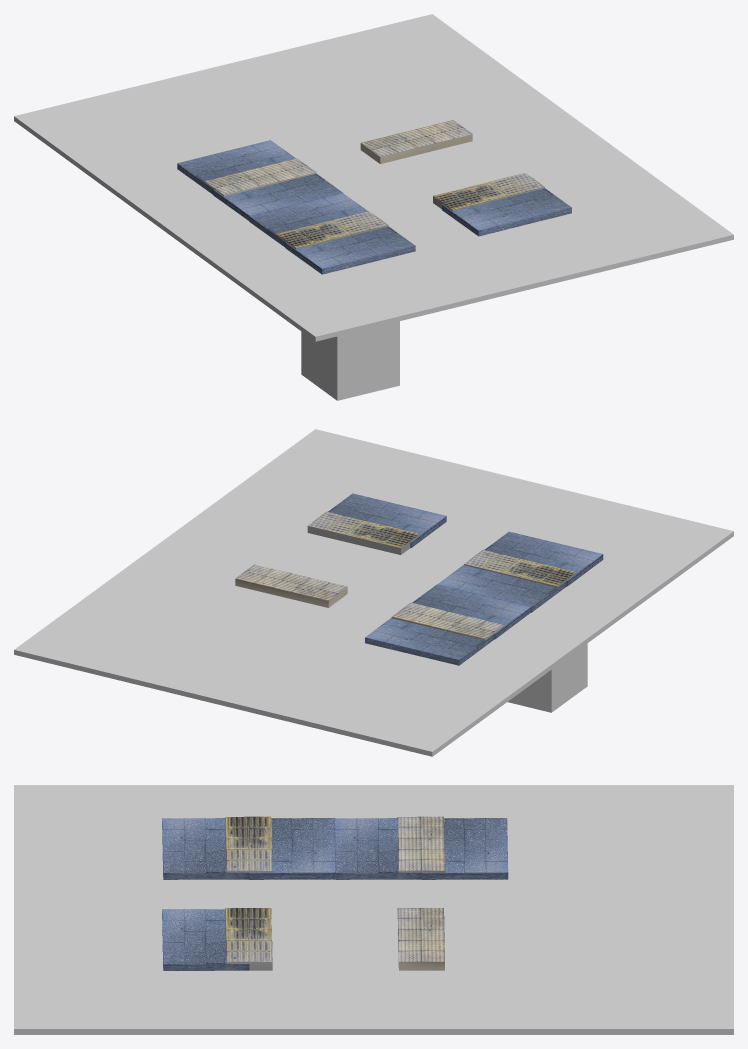
Rendered from nz assets.fbx.
3 views of the same model, one above another, from view 1: azimuth 30°, elevation 25°; view 2: azimuth 150°, elevation 25°; view 3: azimuth 270°, elevation 25° (orthographic). The views are drawn at different scales.
Parts seen in each view (by area): view 1: Cube.005, Cube, Cube.001, Cube.014, Cube.003, Cube.006, Cube.002, Cube.004, Cube.013, Cube.007, Cube.008; view 2: Cube.005, Cube.004, Cube.002, Cube.006, Cube.001, Cube.003, Cube.014, Cube, Cube.013, Cube.008, Cube.007; view 3: Cube.005, Cube.001, Cube.014, Cube.003, Cube.002, Cube.004, Cube.006, Cube.013, Cube.007, Cube.008.
Part boxes in pixels (x1,y1,x2,y2): Cube.005: (14, 14, 733, 341); Cube: (301, 321, 399, 400); Cube.001: (285, 226, 415, 274); Cube.014: (442, 188, 571, 236); Cube.003: (213, 173, 342, 220); Cube.006: (360, 120, 472, 163); Cube.002: (249, 193, 367, 247); Cube.004: (177, 140, 295, 194); Cube.013: (433, 173, 544, 211); Cube.007: (276, 211, 388, 249); Cube.008: (204, 158, 316, 196); Cube.005: (14, 429, 733, 756); Cube.004: (365, 618, 494, 665); Cube.002: (437, 565, 566, 612); Cube.006: (235, 564, 347, 607); Cube.001: (484, 531, 603, 586); Cube.003: (412, 584, 530, 639); Cube.014: (328, 493, 446, 547); Cube: (508, 643, 587, 712); Cube.013: (307, 511, 419, 554); Cube.008: (391, 602, 504, 640); Cube.007: (464, 549, 576, 587); Cube.005: (14, 785, 733, 1034); Cube.001: (162, 818, 249, 879); Cube.014: (162, 909, 249, 970); Cube.003: (334, 818, 421, 879); Cube.002: (249, 818, 335, 879); Cube.004: (422, 818, 508, 879); Cube.006: (397, 908, 444, 970); Cube.013: (225, 908, 272, 970); Cube.007: (225, 816, 272, 872); Cube.008: (397, 816, 444, 872).
Size of the model in its own units: 1338 by 419 by 1669.
